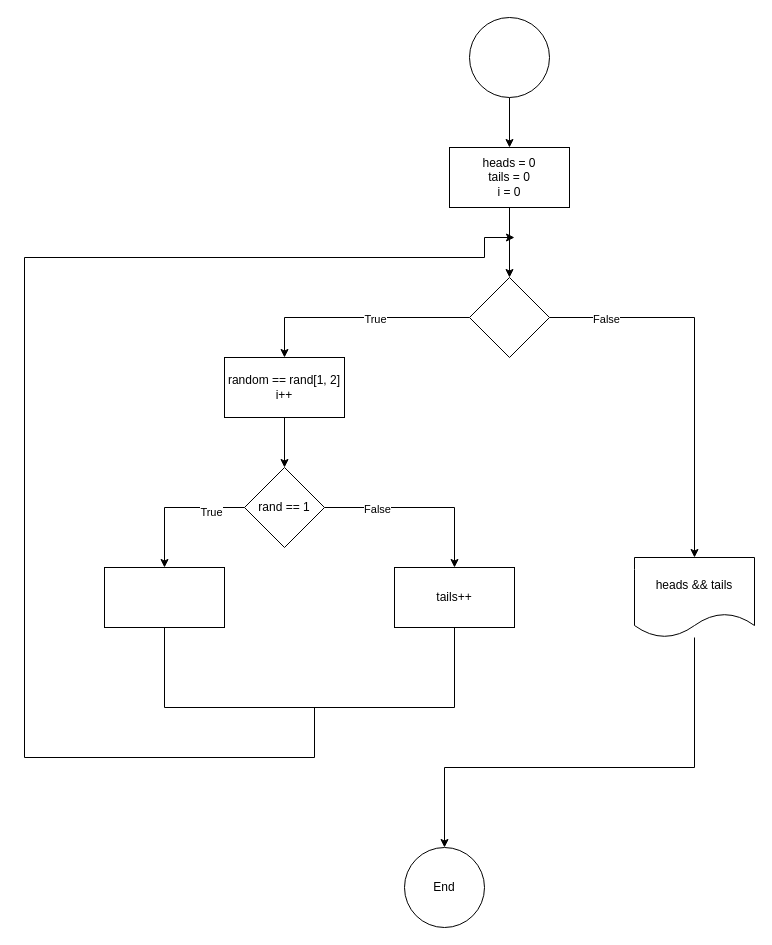
This 772x945 diagram has some shape labels left out. The centre of each missing label's shape, as x and y in pixels:
"heads++" belongs at [164,597].
"i < 200" belongs at [509,317].
"START" belongs at [509,57].
